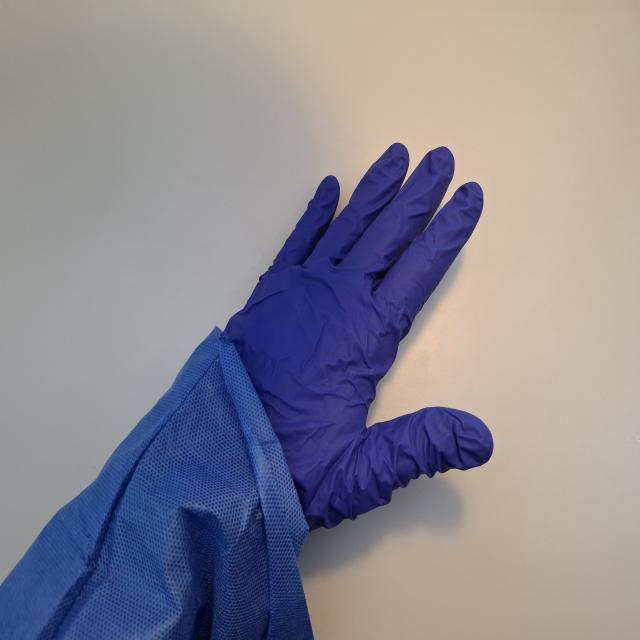glove_on: (203, 140, 497, 540)
